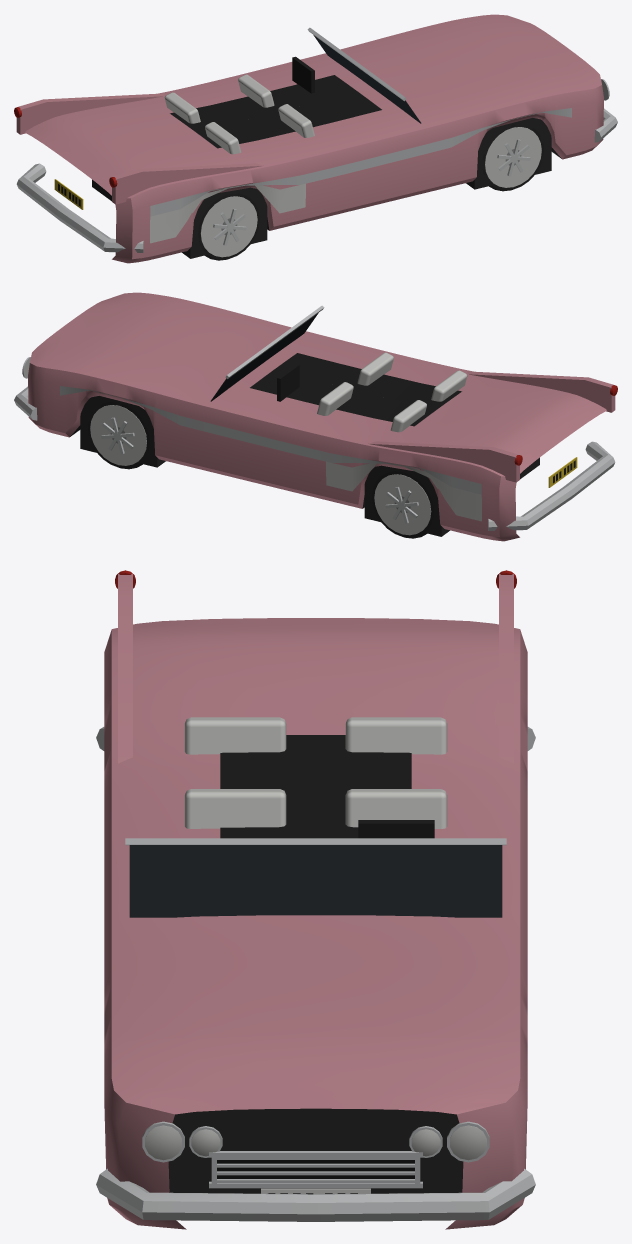
The model's file is SM_Prop_parked_car_114.glb.
The picture shows the model from 3 angles, top to bottom: view 1: azimuth 30°, elevation 25°; view 2: azimuth 150°, elevation 25°; view 3: azimuth 270°, elevation 25°; orthographic projection. The views are drawn at different scales.
Parts seen in each view (by area): view 1: SM_Prop_parked_car_114; view 2: SM_Prop_parked_car_114; view 3: SM_Prop_parked_car_114.
Boxes of the visible parts, x1,y1,x2,y2 form: SM_Prop_parked_car_114: (14, 14, 617, 263); SM_Prop_parked_car_114: (14, 292, 617, 541); SM_Prop_parked_car_114: (96, 570, 535, 1229).
Bounding box in the file's own units: 5.66 × 1.24 × 2.08.
